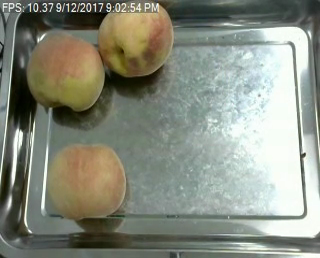Peach: (27, 28, 104, 111), (47, 143, 126, 220), (98, 0, 174, 77)
